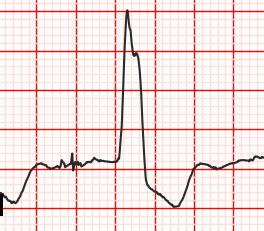ST Depression: (105, 148, 206, 212)
